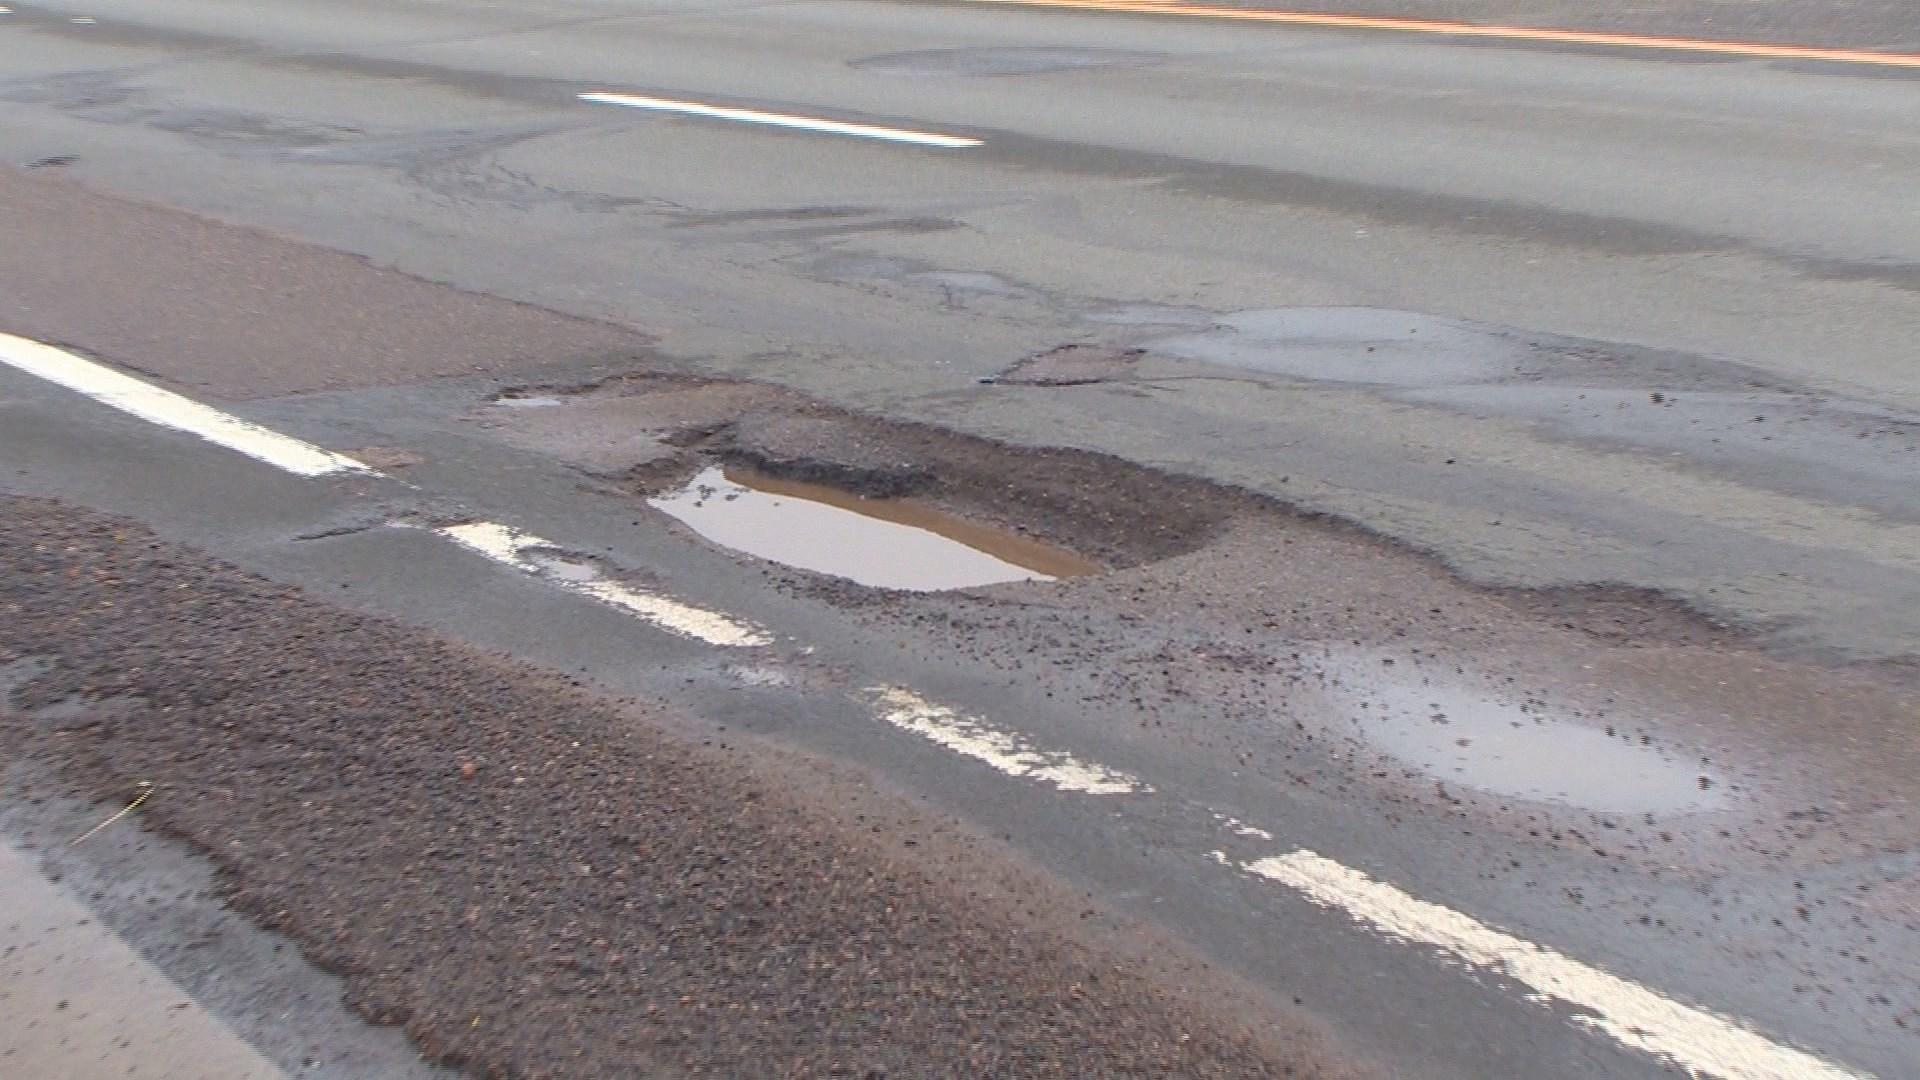Pothole: (620, 402, 1193, 650)
